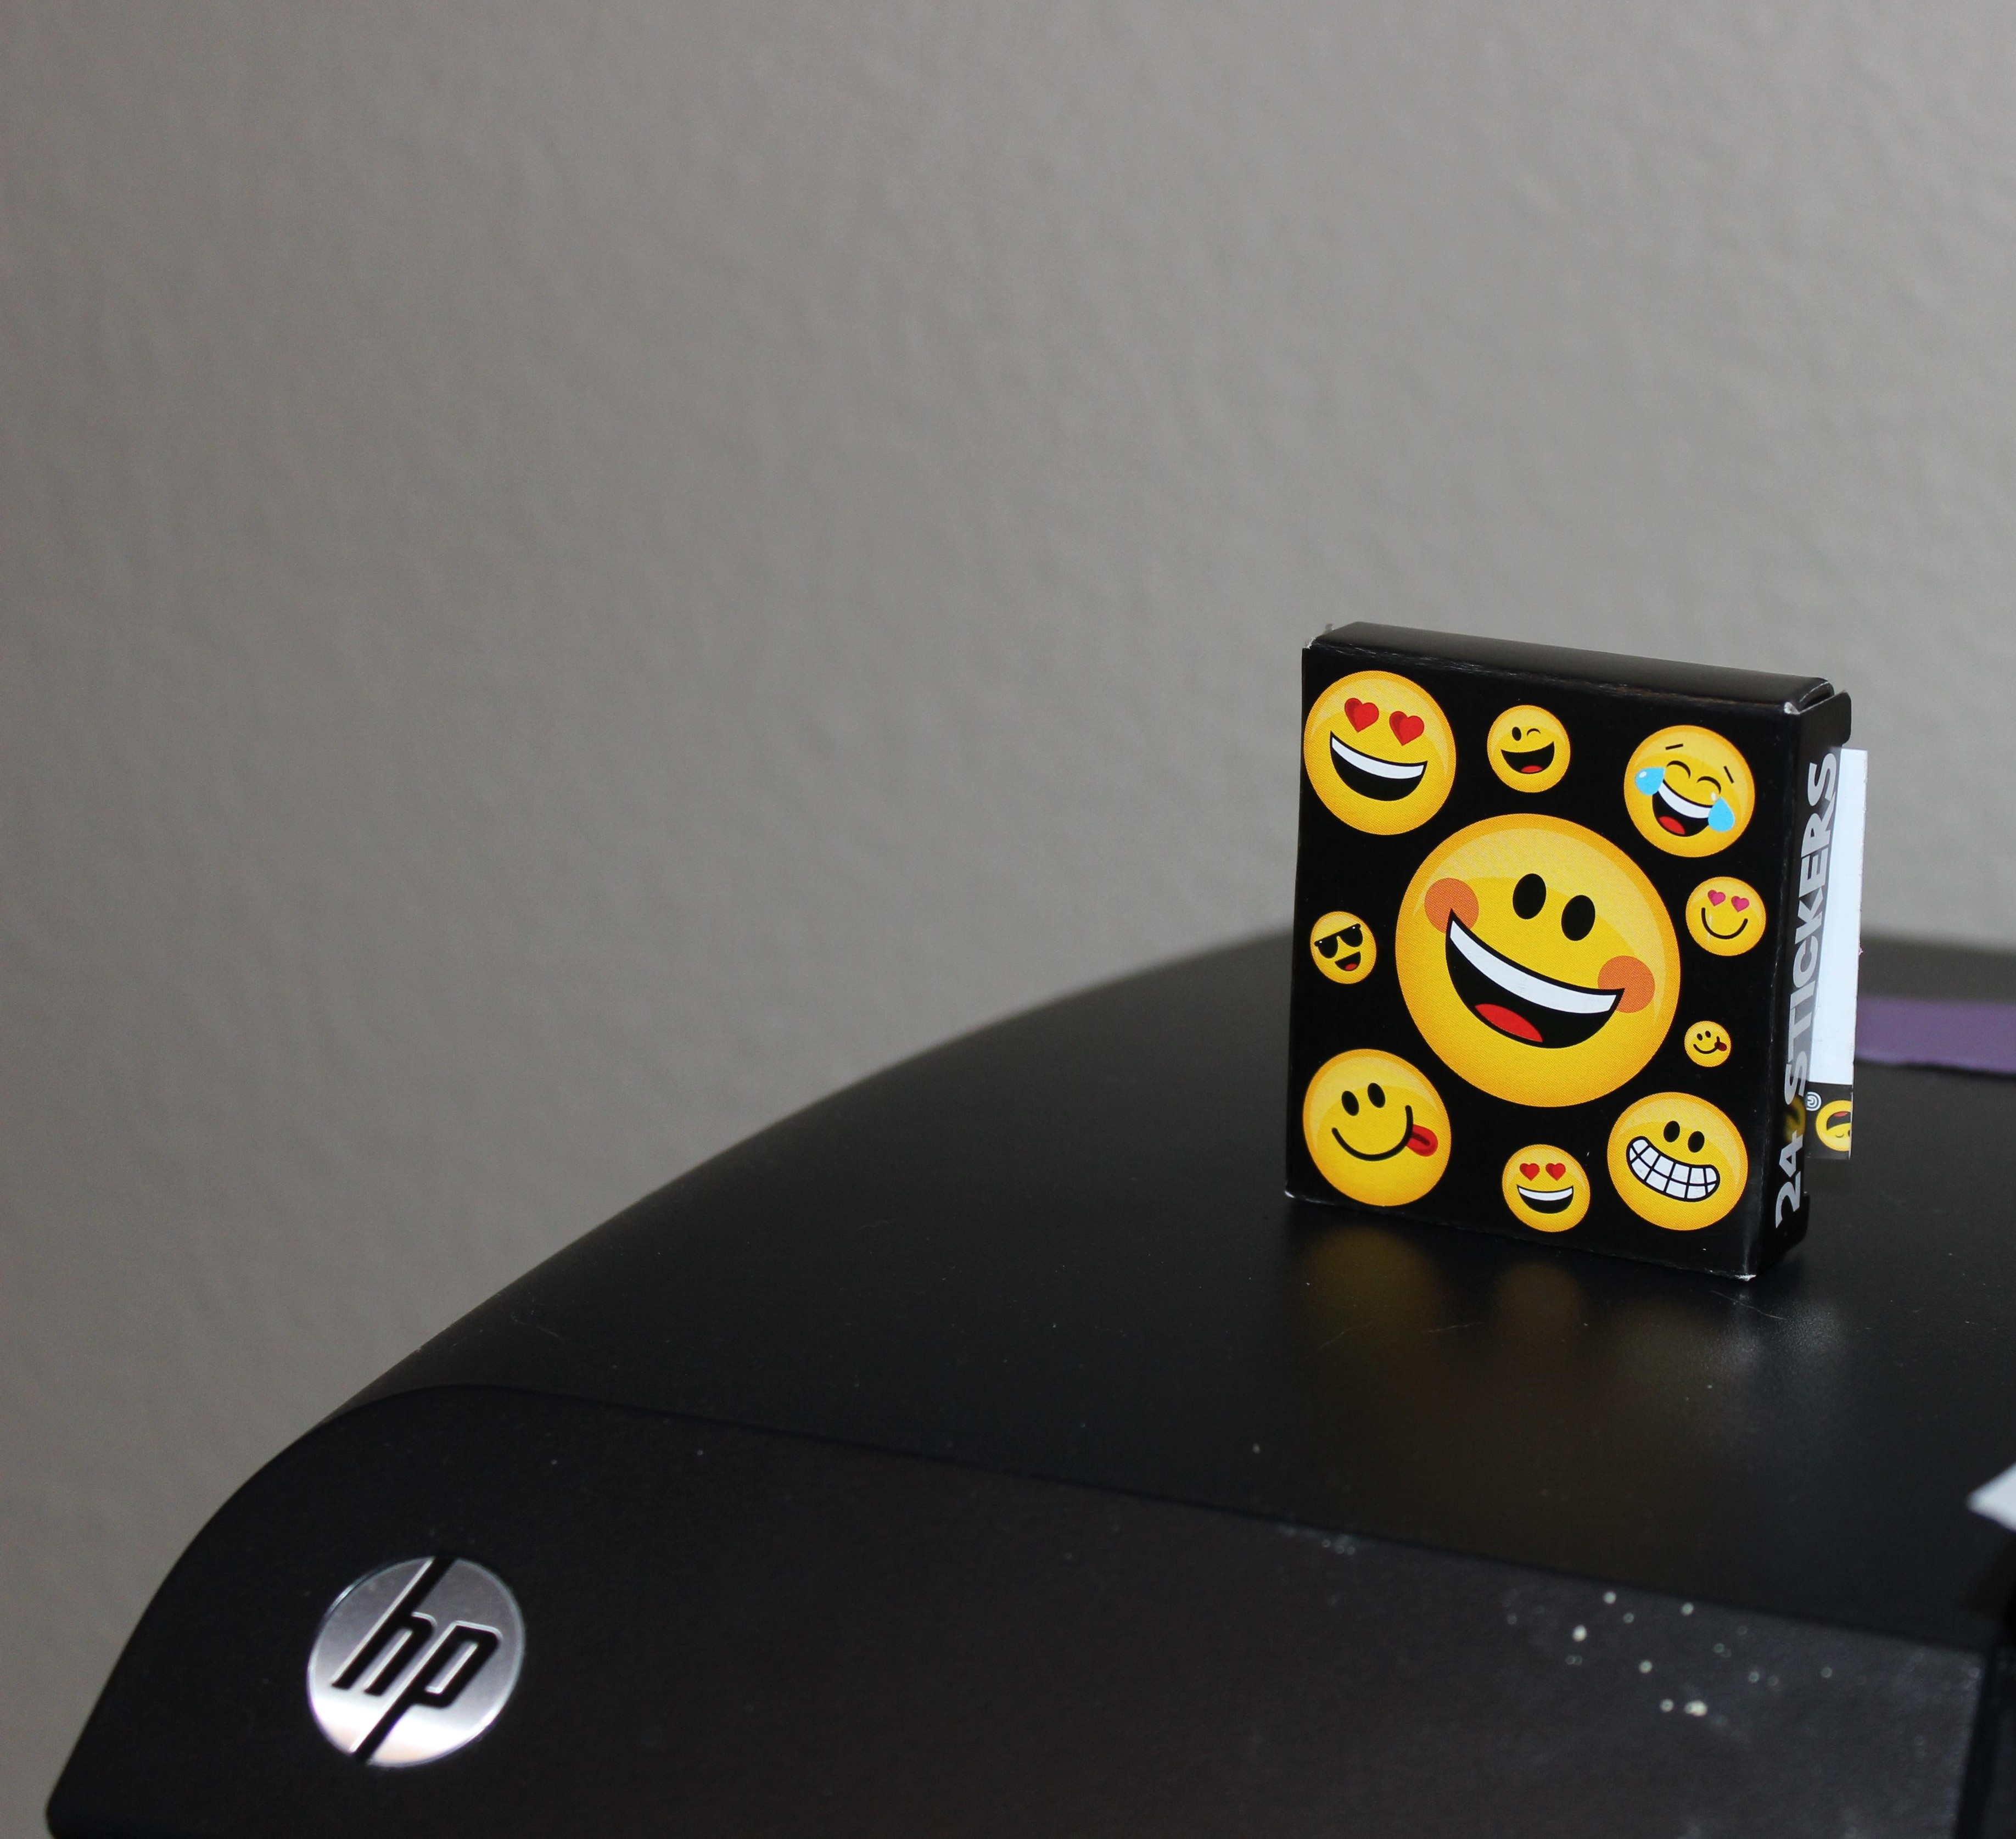stickerBox: (1243, 597, 1919, 1317)
